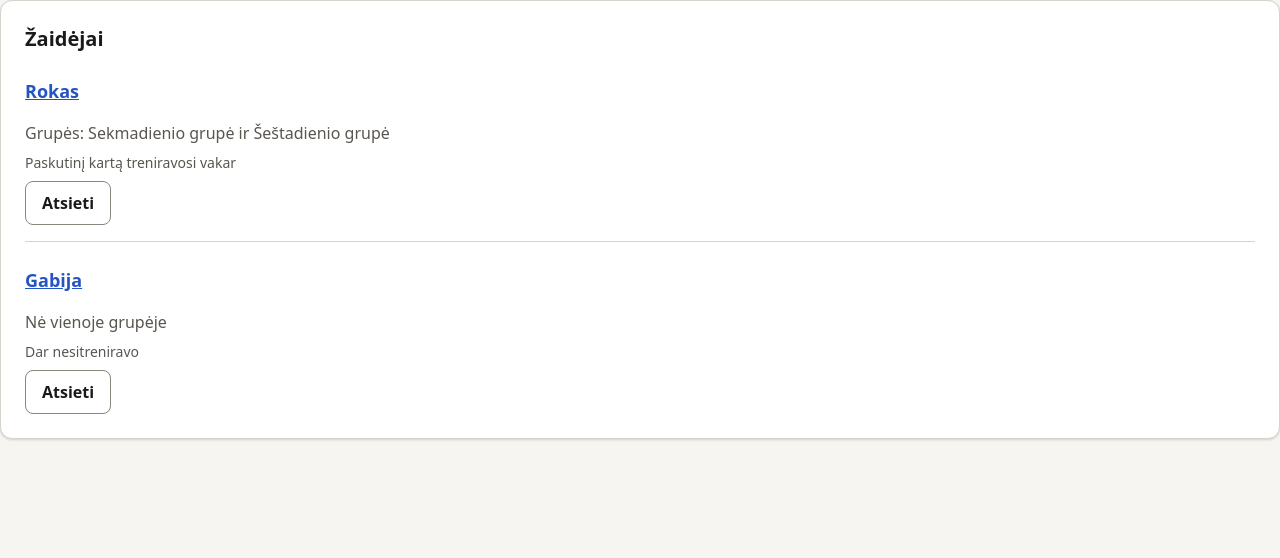
Scenario: PlayersList › shows a refused Unlink in the players section
Click the button "Atsieti" below "Gabija": coordinates (68, 392) [25,370,111,414]
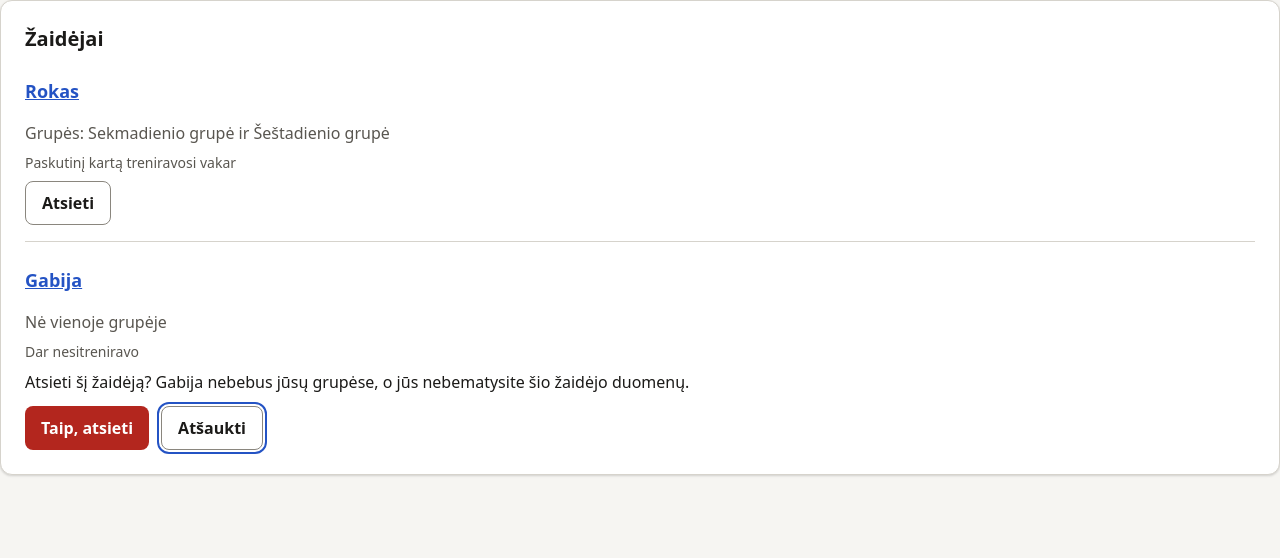
Click the button "Taip, atsieti": coordinates (87, 428) [25,406,149,450]
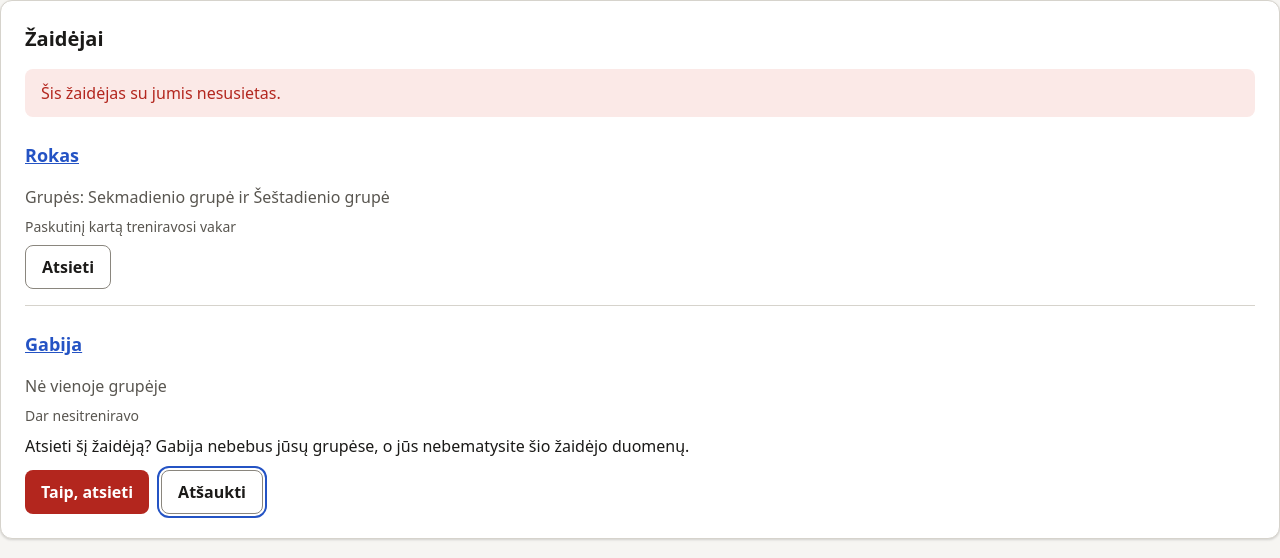
Expected: the message reads "Šis žaidėjas su jumis nesusietas.", [41,82,281,104]
